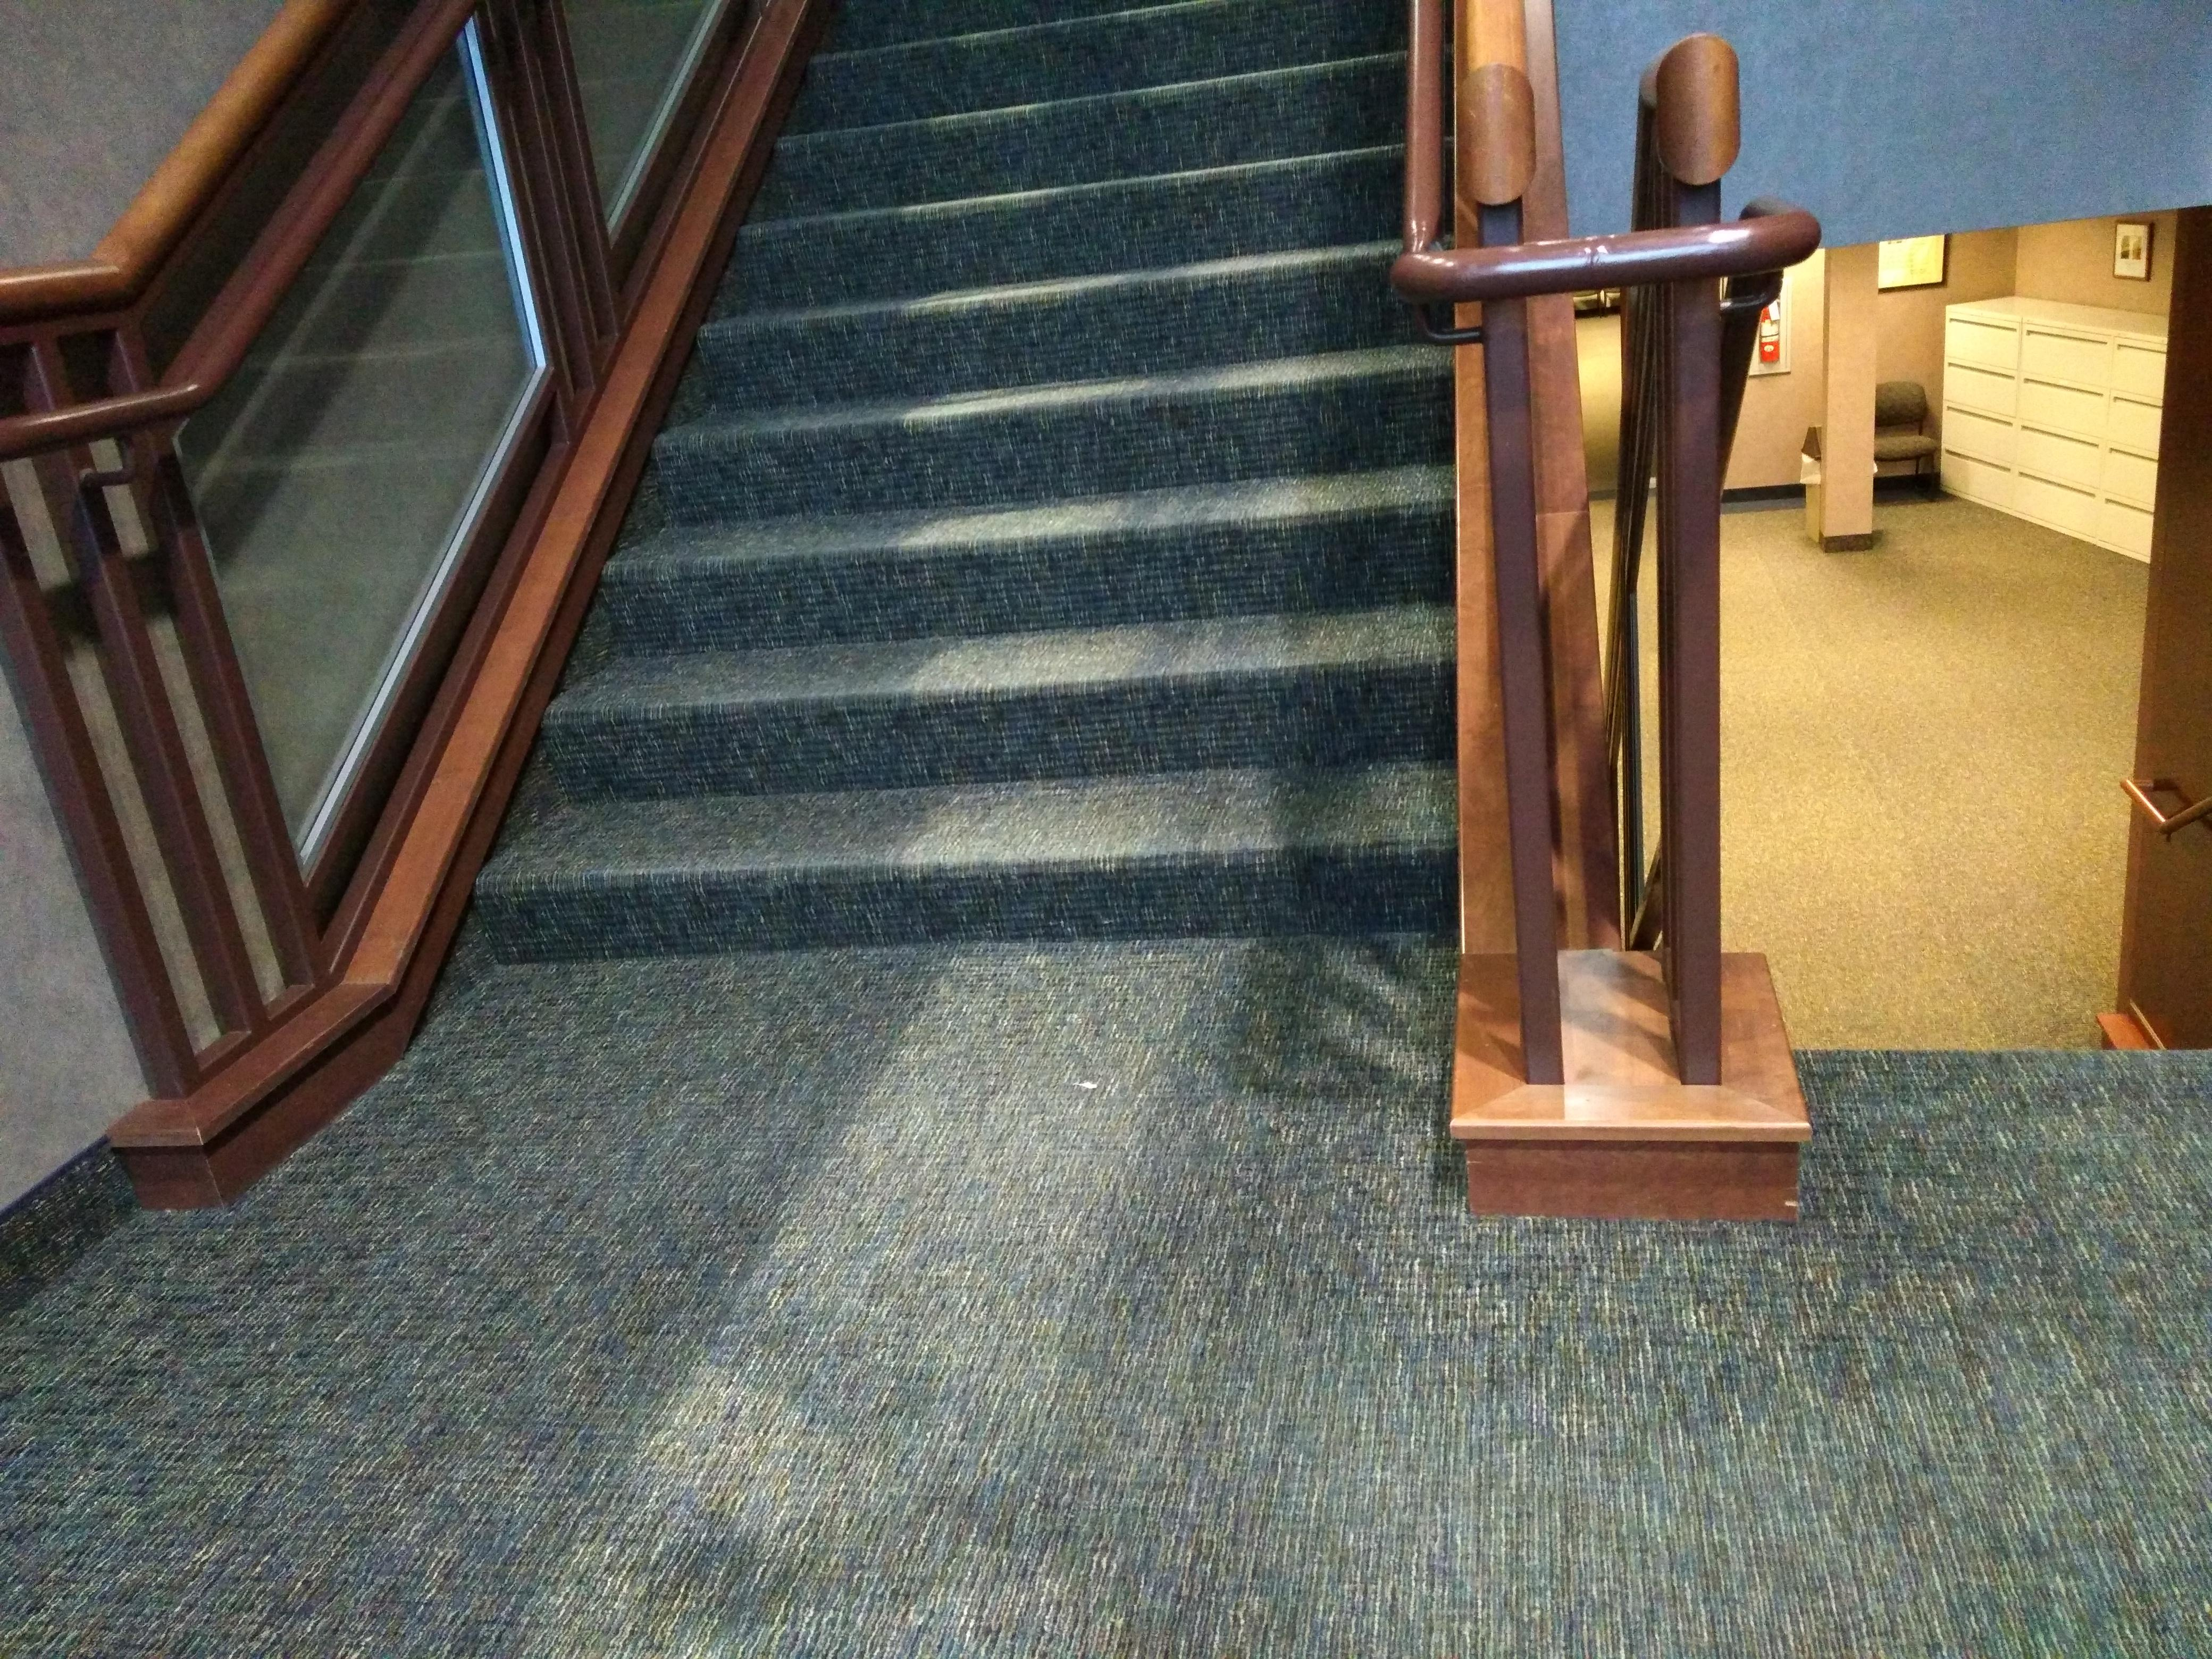stairs_up: (456, 7, 1475, 960)
